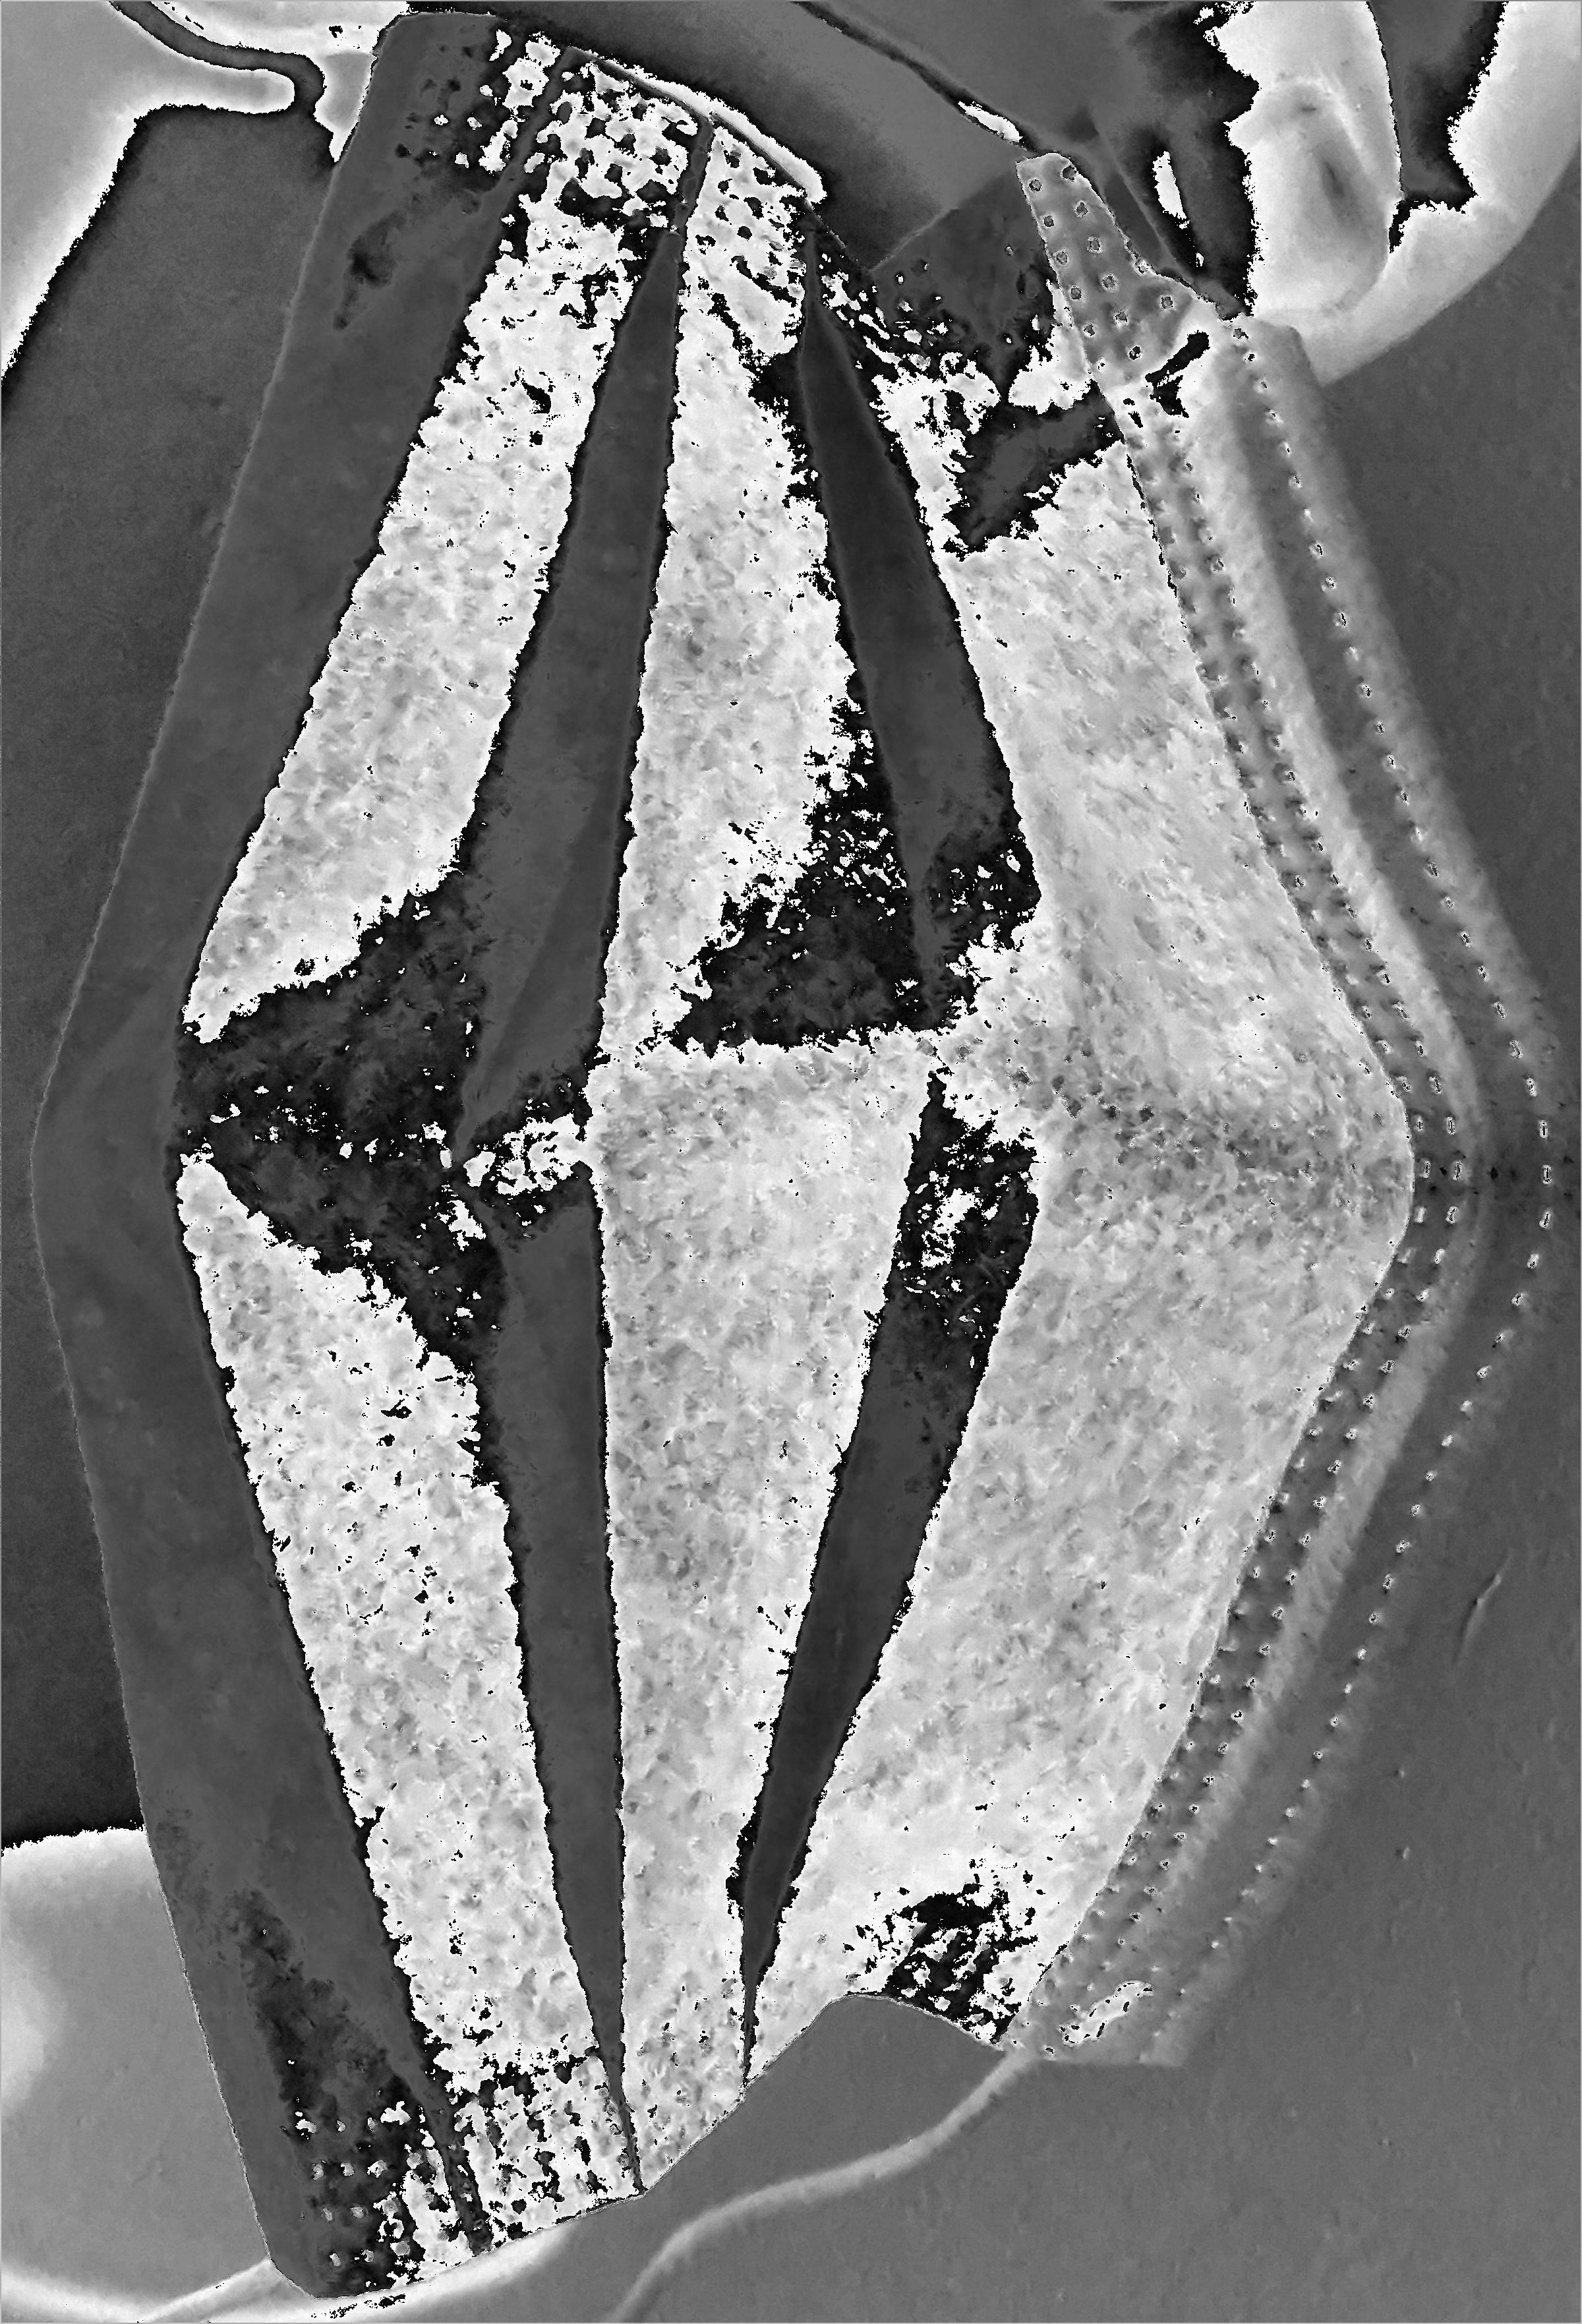Low GSM: (388, 473, 1112, 1997)
